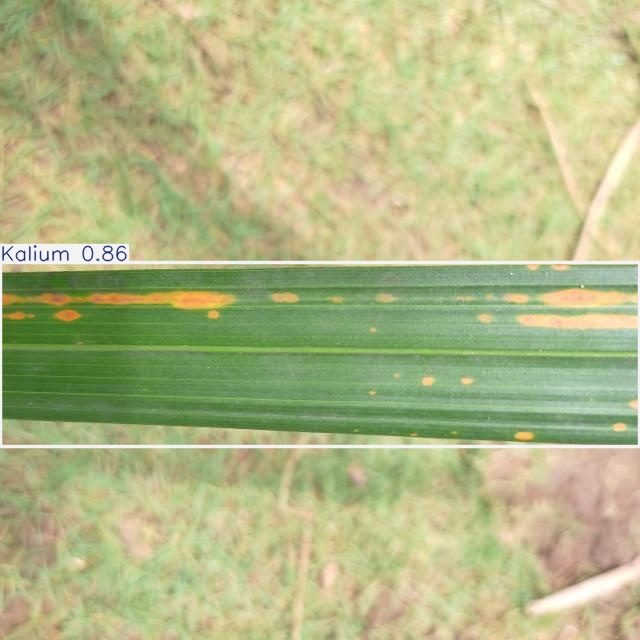Kalium: (0, 263, 640, 446)
